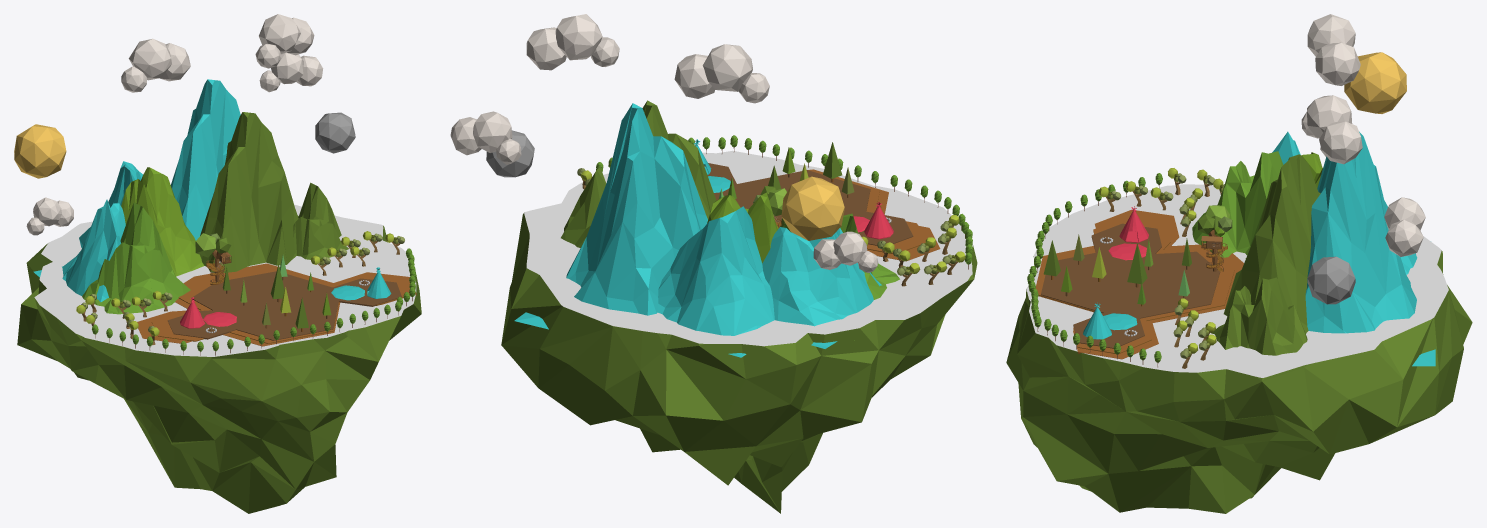
The model's file is Floating ISland.fbx.
The picture shows the model from 3 angles, left to right: view 1: azimuth 30°, elevation 25°; view 2: azimuth 150°, elevation 25°; view 3: azimuth 270°, elevation 25°; orthographic projection. The views are drawn at different scales.
Visible parts, largest first — view 1: Sphere_48, Cube_2_2_2, Landscape_4_2, Cap_2, Landscape_4, Landscape, Landscape_1, Landscape_3, Landscape_5, Sun_3, Cap_2_2, Cap_2_3 (+12 smaller); view 2: Sphere_48, Landscape_4, Cube_2_2_2, Landscape_2, Landscape_3, Sun_3, Cap_2, Moon_1_8, Landscape_4_2, Landscape_1, Moon_1_6, Landscape_5 (+14 smaller); view 3: Sphere_48, Cube_2_2_2, Landscape_4, Cap_2, Landscape_4_2, Landscape_5, Landscape, Sun_3, Cap_2_2, Cap_2_3, Tree, Moon_3_9 (+8 smaller).
Part boxes in pixels (x1,y1,x2,y2): Sphere_48: [17, 225, 421, 513]; Cube_2_2_2: [34, 204, 416, 356]; Landscape_4_2: [200, 112, 298, 272]; Cap_2: [168, 271, 401, 340]; Landscape_4: [170, 79, 240, 240]; Landscape: [82, 202, 190, 314]; Landscape_1: [121, 167, 204, 276]; Landscape_3: [33, 199, 125, 302]; Landscape_5: [293, 182, 348, 259]; Sun_3: [14, 124, 66, 178]; Cap_2_2: [151, 267, 407, 343]; Cap_2_3: [137, 263, 416, 346]; Sphere_48: [501, 213, 977, 513]; Landscape_4: [514, 103, 707, 329]; Cube_2_2_2: [524, 150, 972, 346]; Landscape_2: [657, 206, 774, 357]; Landscape_3: [762, 227, 881, 348]; Sun_3: [781, 176, 844, 240]; Cap_2: [704, 163, 912, 244]; Moon_1_8: [702, 44, 752, 91]; Landscape_4_2: [642, 100, 716, 219]; Landscape_1: [707, 192, 778, 263]; Moon_1_6: [555, 14, 602, 60]; Landscape_5: [561, 167, 606, 247]; Sphere_48: [1006, 250, 1472, 513]; Cube_2_2_2: [1026, 184, 1448, 377]; Landscape_4: [1305, 131, 1435, 366]; Cap_2: [1041, 223, 1219, 347]; Landscape_4_2: [1223, 154, 1320, 333]; Landscape_5: [1211, 277, 1307, 355]; Landscape: [1192, 151, 1283, 258]; Sun_3: [1344, 52, 1406, 113]; Cap_2_2: [1038, 216, 1234, 352]; Cap_2_3: [1035, 210, 1243, 359]; Tree: [1043, 238, 1191, 304]; Moon_3_9: [1307, 256, 1355, 304].
Bounding box in the file's own units: 2477 × 2901 × 2507.
